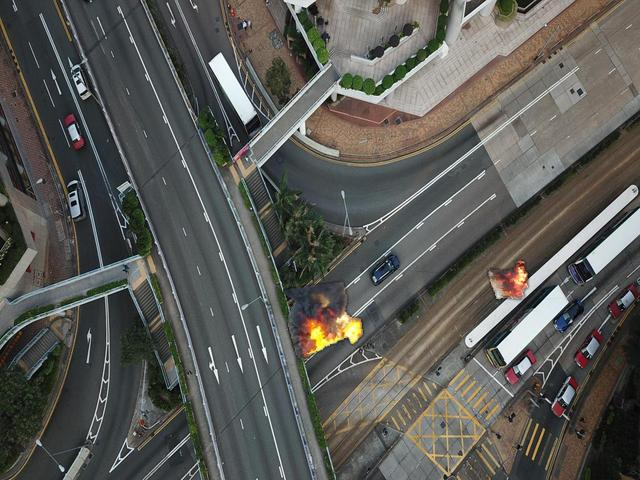fire: (283, 281, 363, 360), (486, 259, 530, 301)
